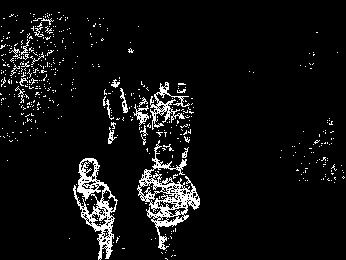person: (136, 144, 201, 257), (72, 156, 118, 260), (170, 81, 196, 168), (100, 75, 129, 145), (126, 79, 152, 148), (149, 80, 174, 150)
